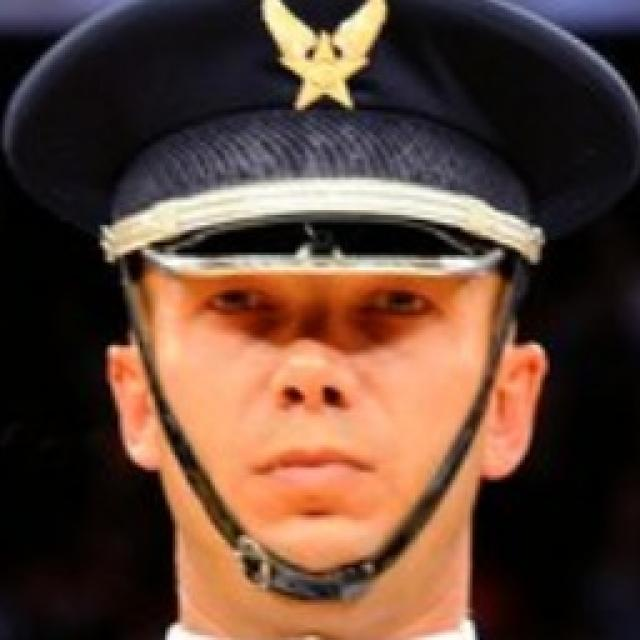no-glasses: (184, 255, 448, 351)
